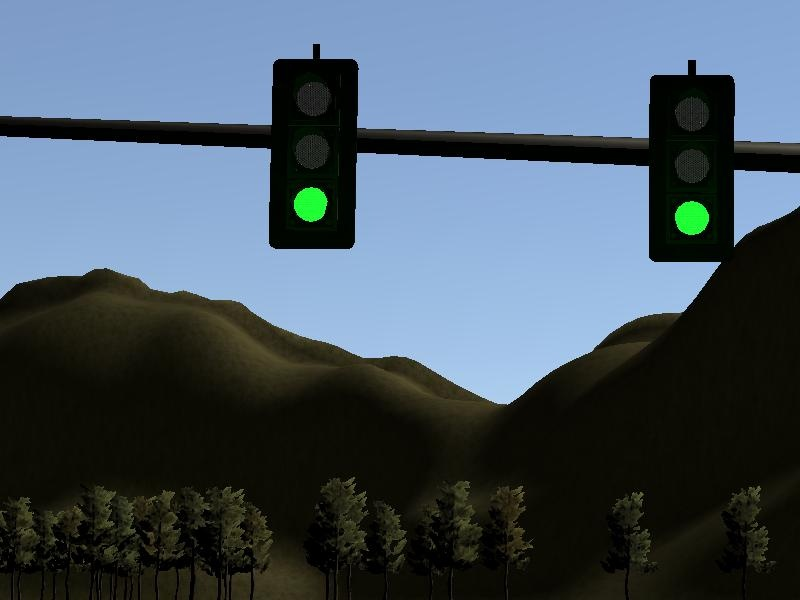GREEN: (647, 75, 736, 264), (268, 59, 357, 248)
